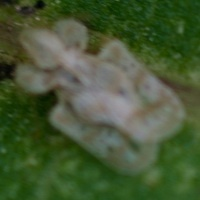insect: (16, 19, 184, 173)
